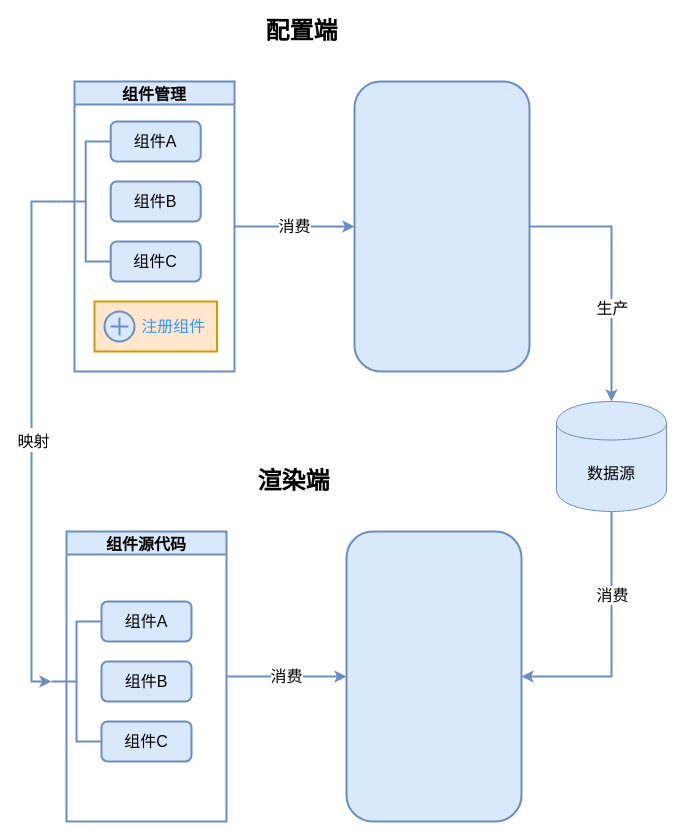
The diagram is 684 pixels wide and 840 high, and some of its shapes have lost their labels. The centre of each missing label's shape, as x and y in pixels:
"渲染引擎SDK" goes at point (433, 676).
"页面编辑器" goes at point (441, 226).
